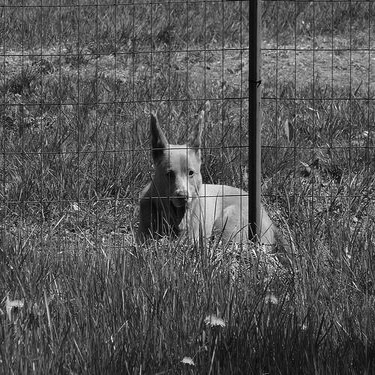dog: (123, 106, 279, 259)
